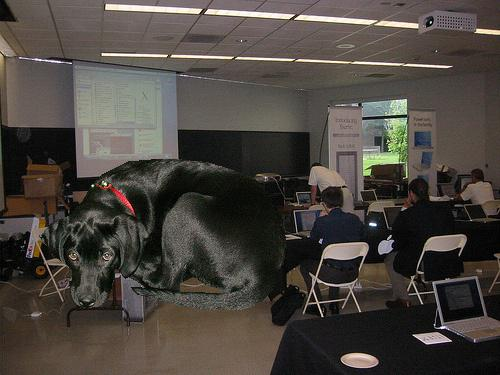tampered: (40, 160, 286, 310)
